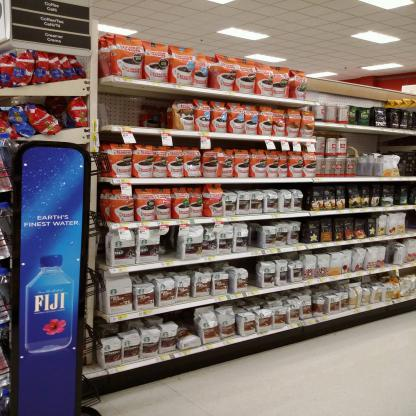Void: (100, 87, 166, 129), (312, 76, 380, 102), (348, 132, 394, 152), (244, 260, 260, 288), (165, 229, 174, 258), (179, 314, 193, 332)
